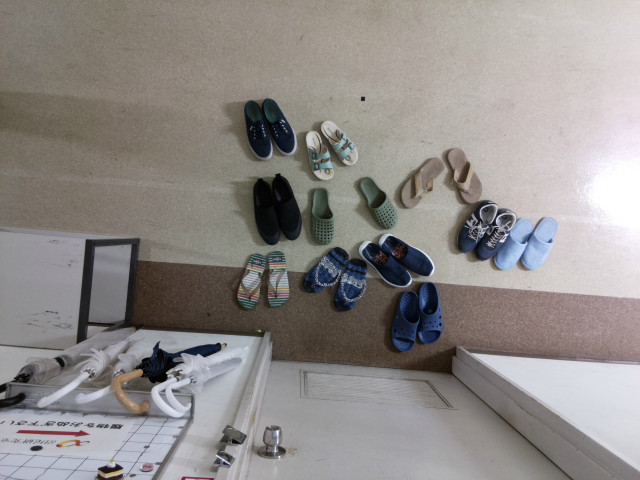Copy of Copy of Copy of Copy of Copy of Copy of Copy of sandal: (320, 120, 358, 167)
Copy of Copy of Copy of Copy of Copy of Copy of Copy of shoes: (261, 97, 297, 156)
Copy of Copy of Copy of Copy of Copy of Copy of sandal: (304, 129, 334, 180)
Copy of Copy of Copy of Copy of Copy of Copy of shoes: (243, 98, 274, 160)
Copy of Copy of Copy of Copy of Copy of sandal: (446, 146, 483, 204)
Copy of Copy of Copy of Copy of Copy of shoes: (272, 173, 303, 241)
Copy of Copy of Copy of Copy of Copy of slipper: (388, 290, 421, 353)
Copy of Copy of Copy of Copy of sandal: (399, 158, 444, 209)
Copy of Copy of Copy of Copy of shoes: (252, 177, 280, 245)
Copy of Copy of Copy of Copy of slipper: (417, 280, 444, 345)
Copy of Copy of Copy of sandal: (333, 258, 367, 311)
Copy of Copy of Copy of shoes: (473, 207, 517, 261)
Copy of Copy of Copy of slipper: (492, 216, 533, 270)
Copy of Copy of sandal: (302, 247, 349, 294)
Copy of Copy of shoes: (455, 198, 498, 252)
Copy of Copy of slipper: (519, 215, 559, 269)
Copy of sandal: (236, 252, 266, 309)
Copy of shoes: (377, 232, 434, 277)
Copy of slipper: (310, 185, 335, 244)
sandal: (267, 249, 290, 308)
shoes: (358, 240, 412, 288)
slipper: (358, 174, 397, 230)
